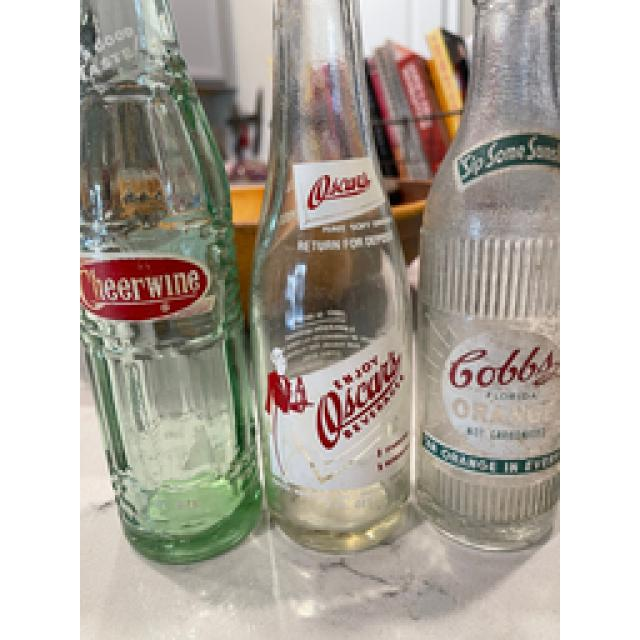glass_beverage_bottles: (80, 1, 260, 566), (242, 0, 422, 563), (413, 8, 563, 555)
